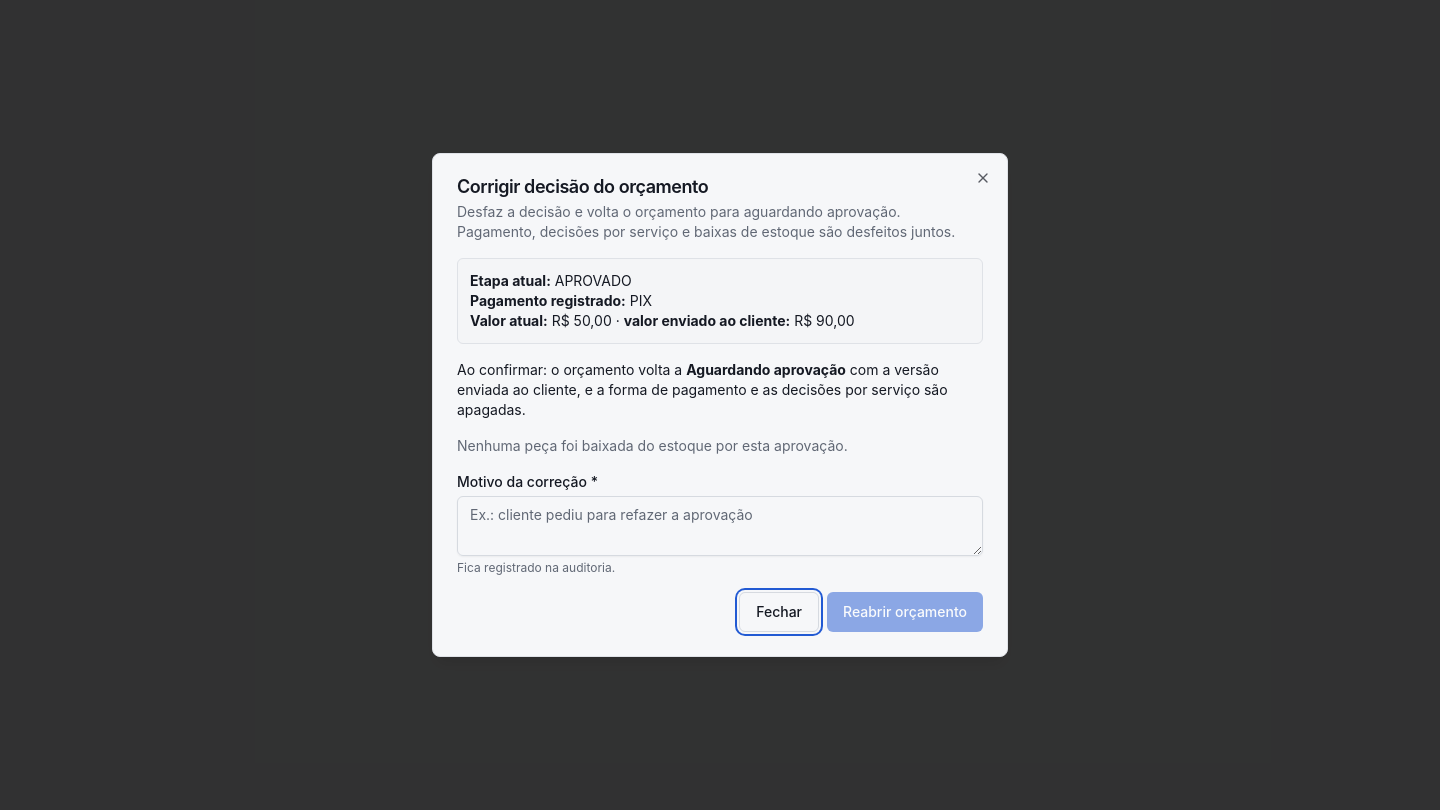
Test: CorrigirDecisaoDialog › mostra o erro do backend sem fechar o diálogo
In the text box labelled "Motivo da correção *": (720,526) [457, 496, 983, 556], type "Aprovação por engano"
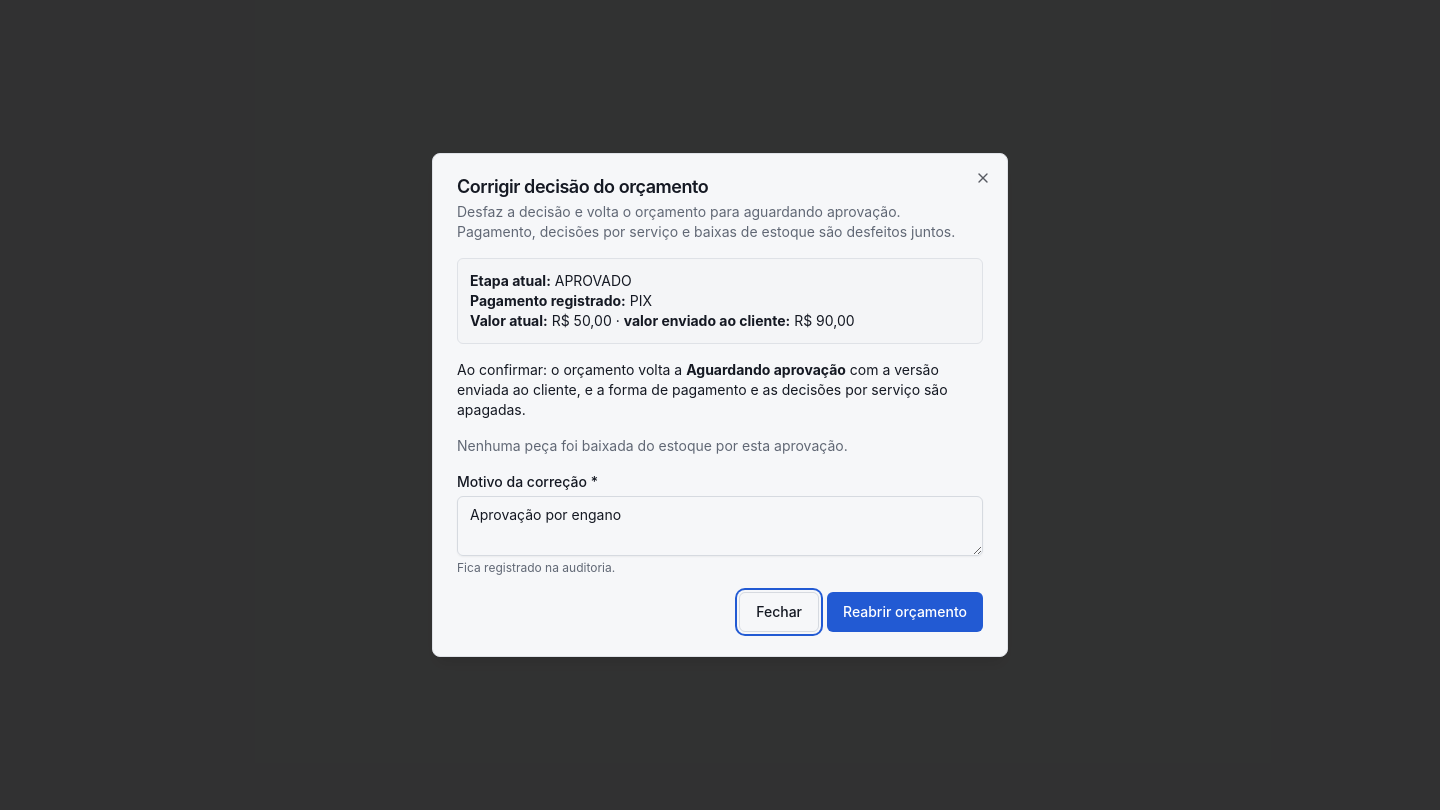
Click the button "Reabrir orçamento": (905,612) [827, 592, 983, 632]
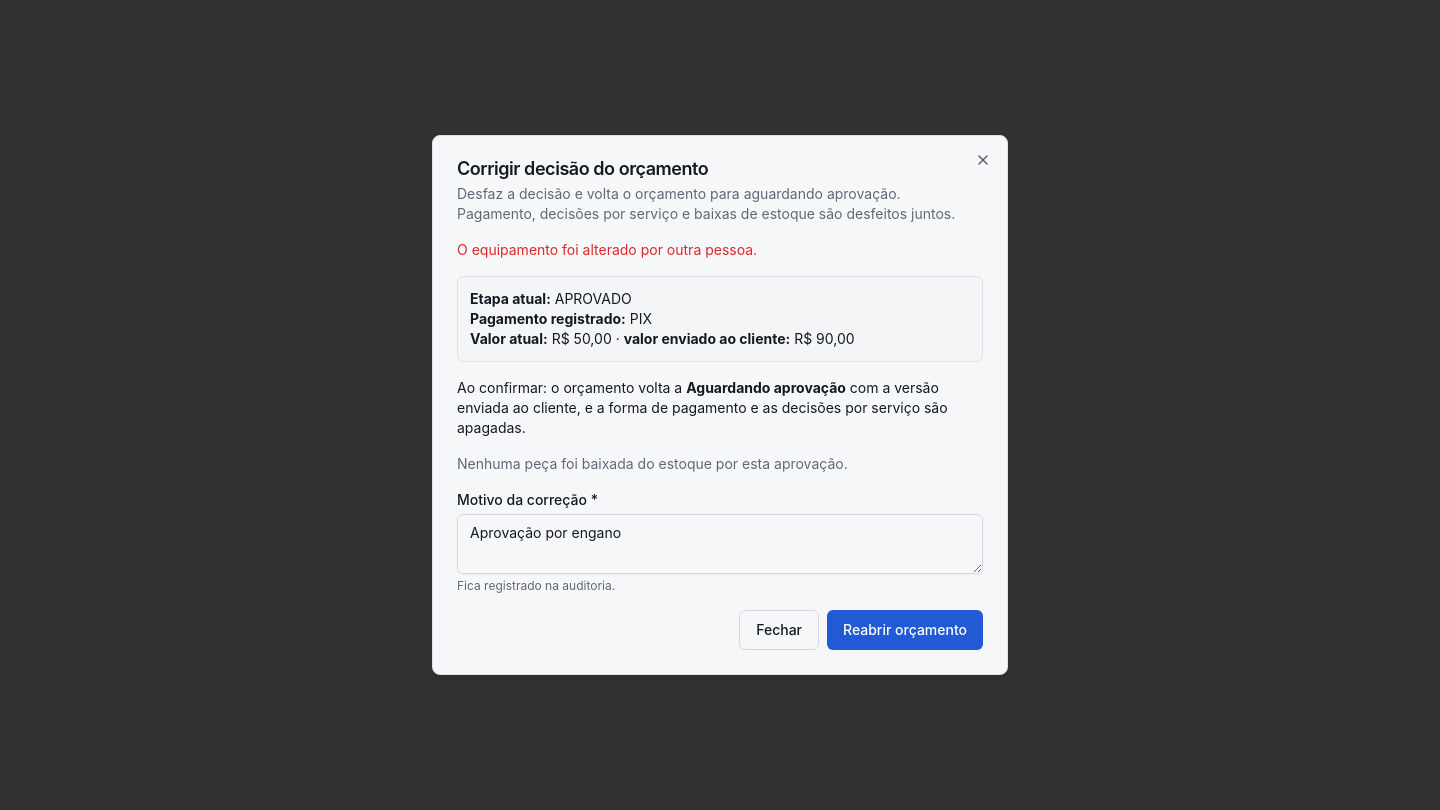
Expected: the message shows "alterado por outra pessoa", [457, 241, 757, 258]
